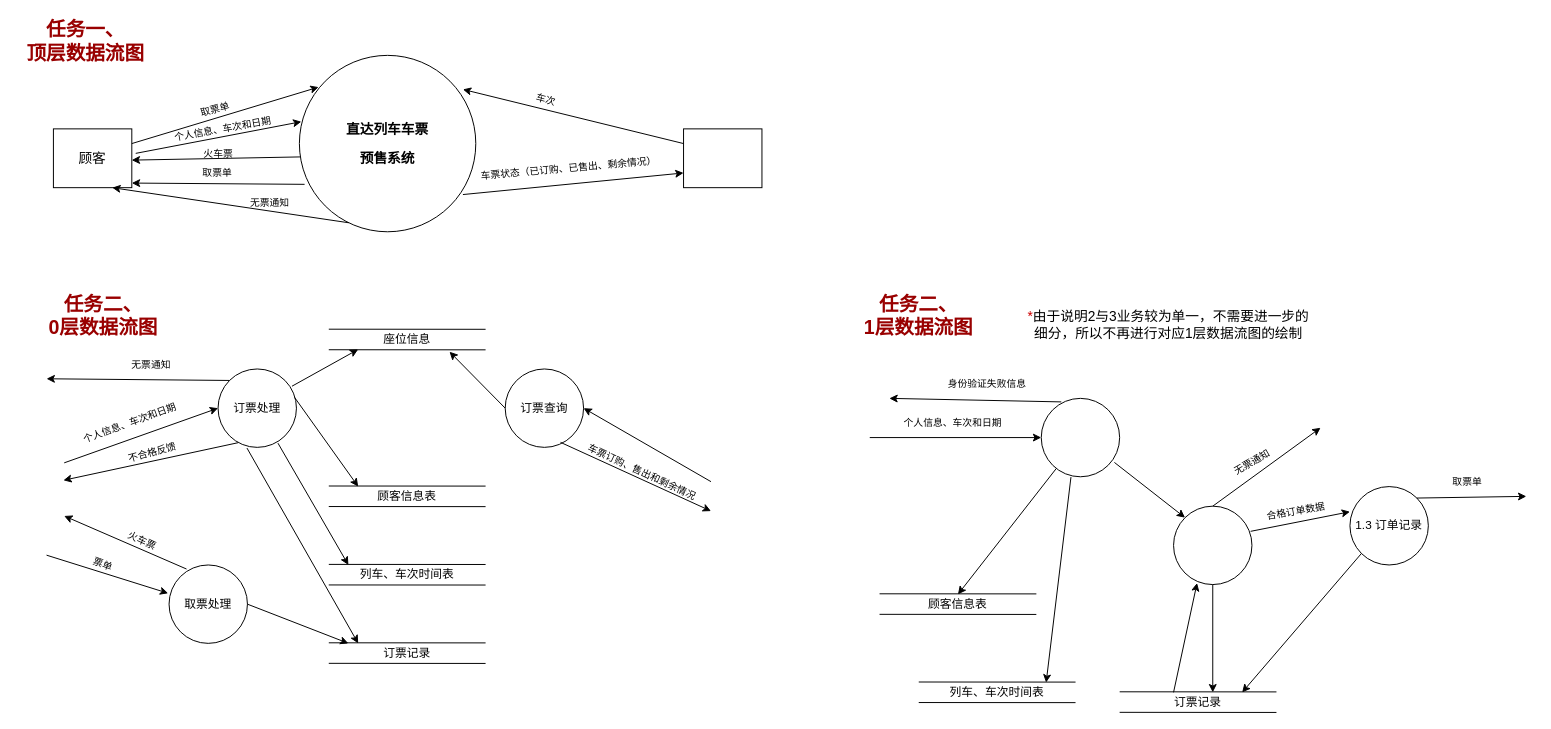
The diagram is 1551 pixels wide and 729 high, and some of its shapes have lost their labels. The shapes that lost their labels are listed below. From the top down, each one's centre as x and y in pixels, then its label:
point (722, 158): 售票员
point (1080, 437): 1.1 验证顾客身份
point (1212, 545): 1.2 余票查询
